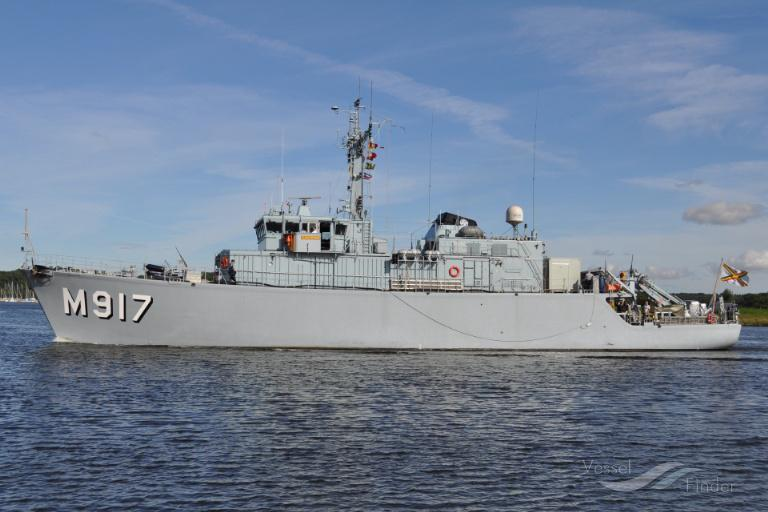OCR: (52, 282, 158, 328)
